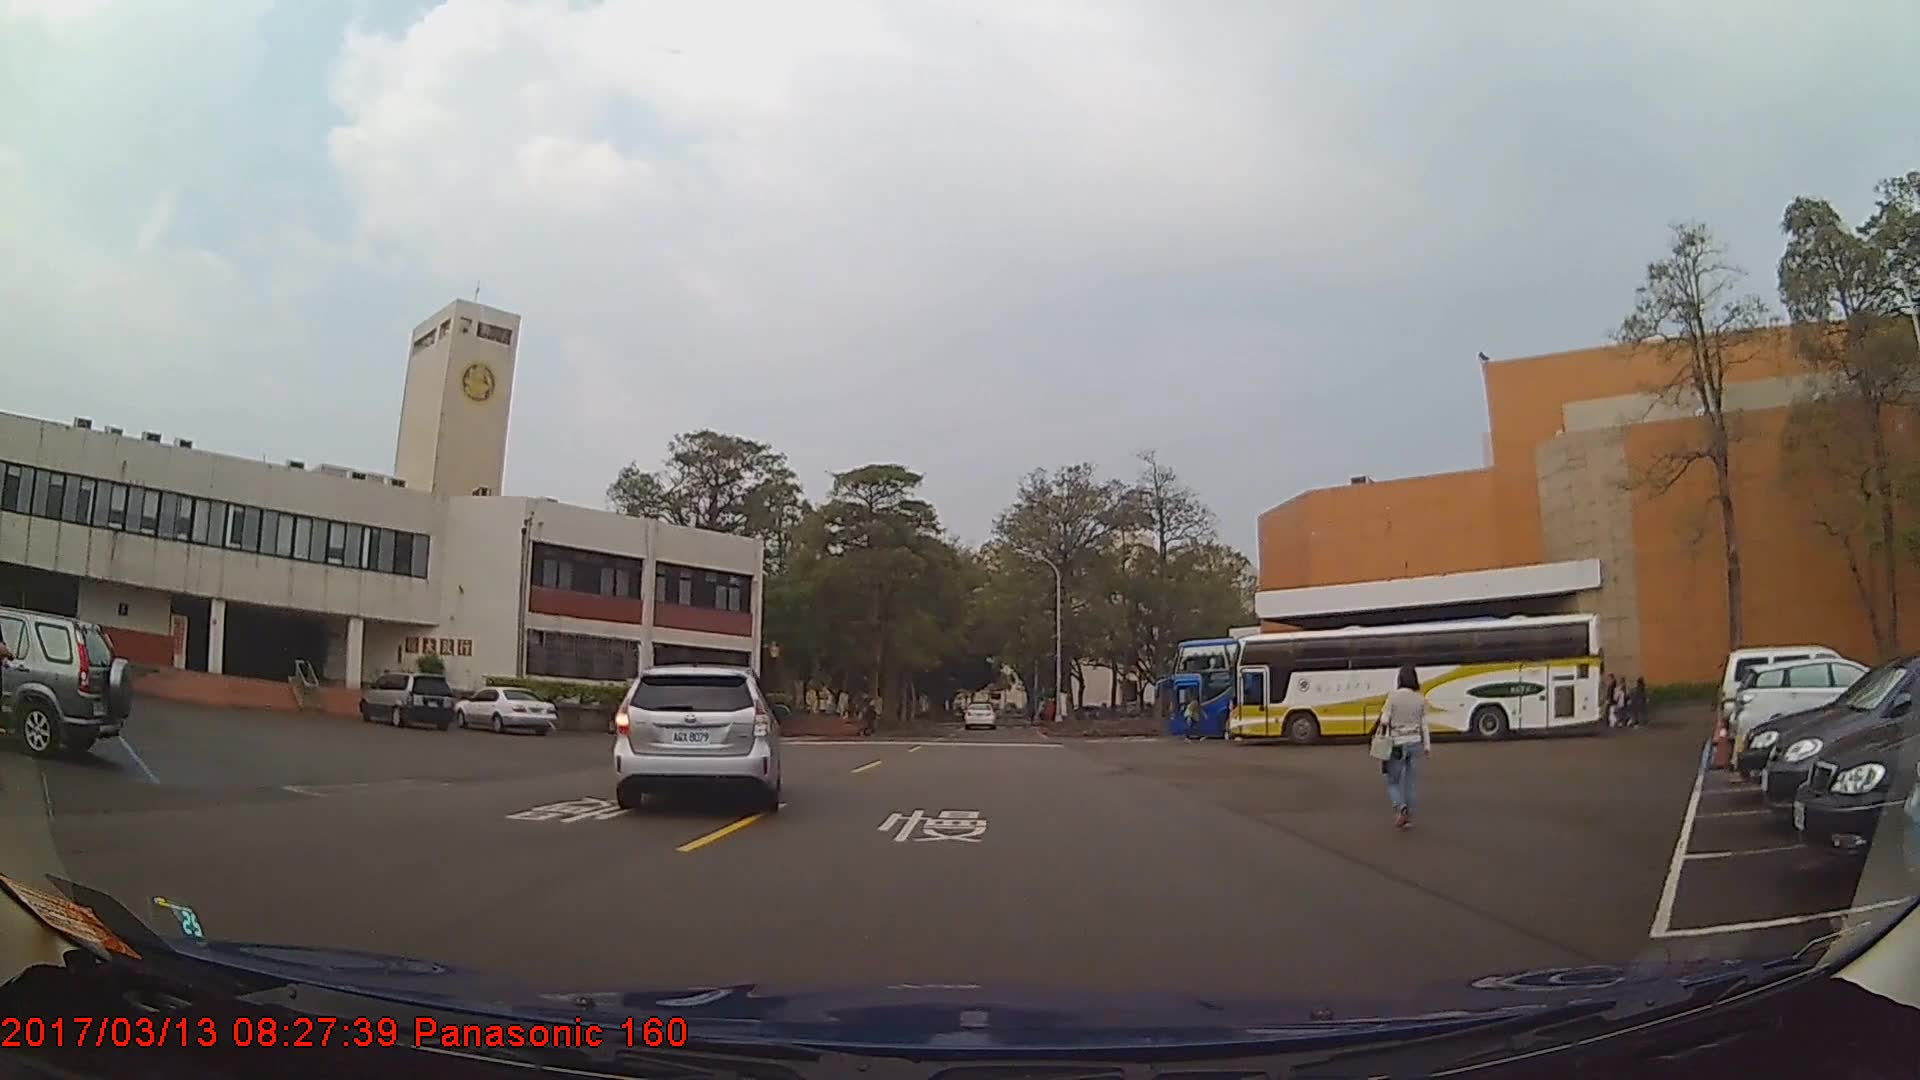pedestrian: (1370, 659, 1431, 833), (1, 598, 21, 796), (1624, 667, 1655, 731)
vehicle: (1225, 612, 1604, 748), (1163, 636, 1478, 738), (1762, 655, 1920, 838), (614, 664, 773, 809), (0, 603, 132, 762), (1729, 656, 1909, 755), (356, 671, 455, 728), (451, 684, 557, 734), (964, 702, 996, 730)
